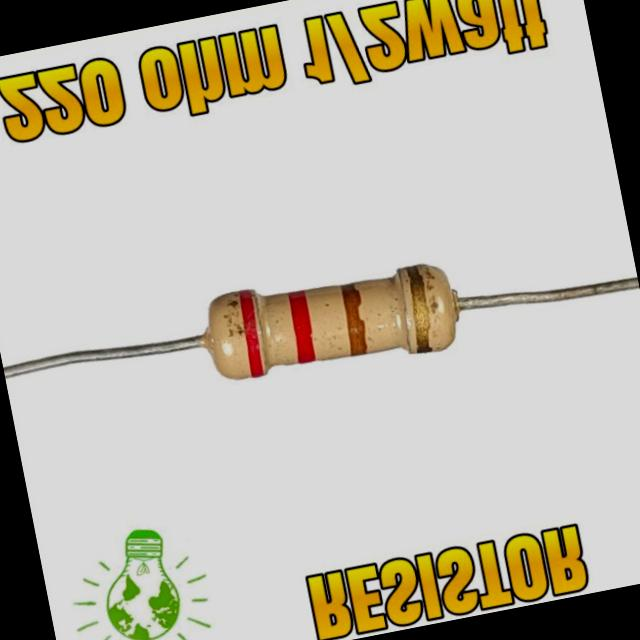Resistor: (202, 265, 459, 379)
brown: (341, 283, 366, 354)
gold: (407, 266, 432, 352)
red: (239, 290, 264, 377), (289, 291, 315, 362)
